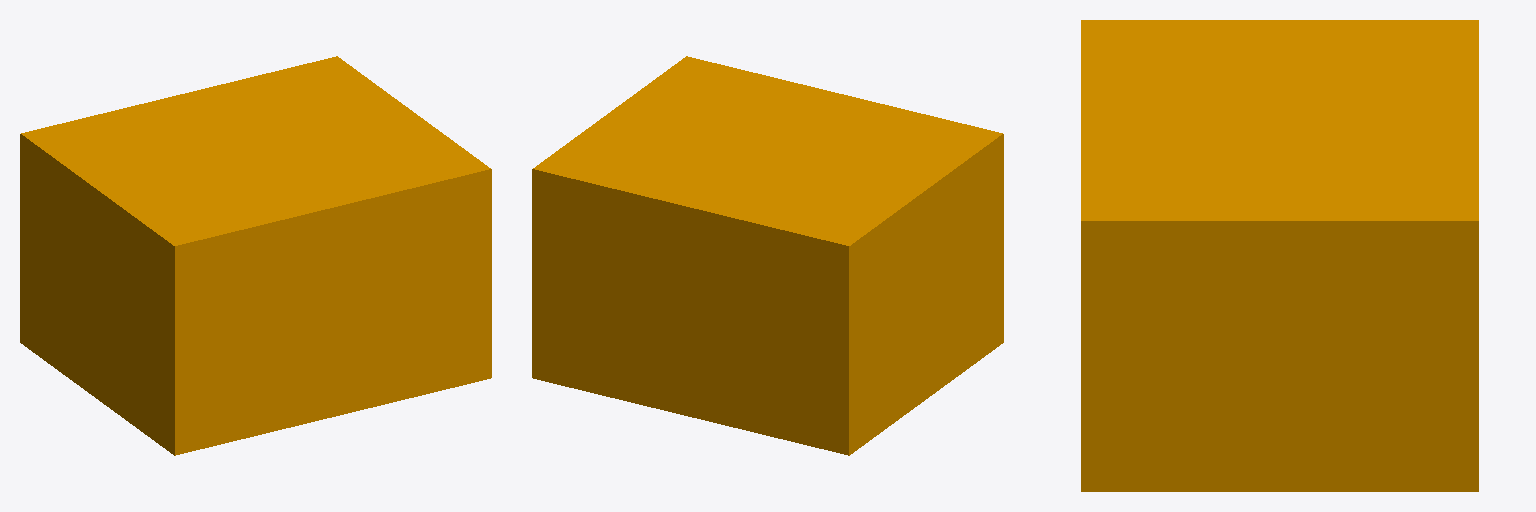
URDF robot description (table):
<robot name="table">
  <link name="object_root">
    <visual>
      <origin xyz="0 0 -0.15" rpy="0 0 0" />
      <geometry>
        <box size="0.475 0.4 0.3" />
      </geometry>
    </visual>
    <collision>
      <origin xyz="0 0 -0.15" rpy="0 0 0" />
      <geometry>
        <box size="0.475 0.4 0.3" />
      </geometry>
    </collision>
    <inertial>
      <mass value="1" />
      <inertia ixx=".01" iyy=".01" izz=".01" ixy="0" ixz="0" iyz="0" />
    </inertial>
  </link>
</robot>

--- Render facts (derived) ---
Views: 3 orthographic renders of the robot side by side, from view 1: azimuth 30°, elevation 25°; view 2: azimuth 150°, elevation 25°; view 3: azimuth 270°, elevation 25°.
Model table with 1 links and 0 joints (none), rooted at object_root, posed all joints at 0.
Links seen in each view (by area): view 1: object_root; view 2: object_root; view 3: object_root.
Link boxes in pixels (left/top/right/bottom): object_root: left=20, top=56, right=491, bottom=455; object_root: left=532, top=56, right=1003, bottom=455; object_root: left=1081, top=20, right=1478, bottom=491.
Size in the robot's own frame: 0.475 by 0.4 by 0.3 metres.
Geometry: primitives only (box / cylinder / sphere), no mesh files.
